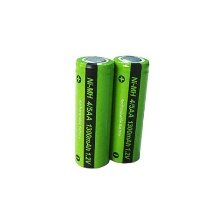battery: (70, 51, 117, 171), (107, 49, 151, 167)
